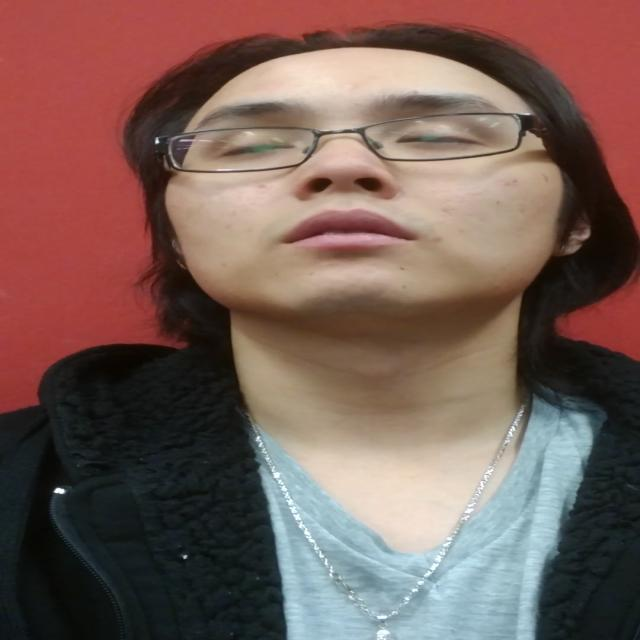Eyeclosed: (396, 118, 477, 158), (217, 132, 295, 169)
